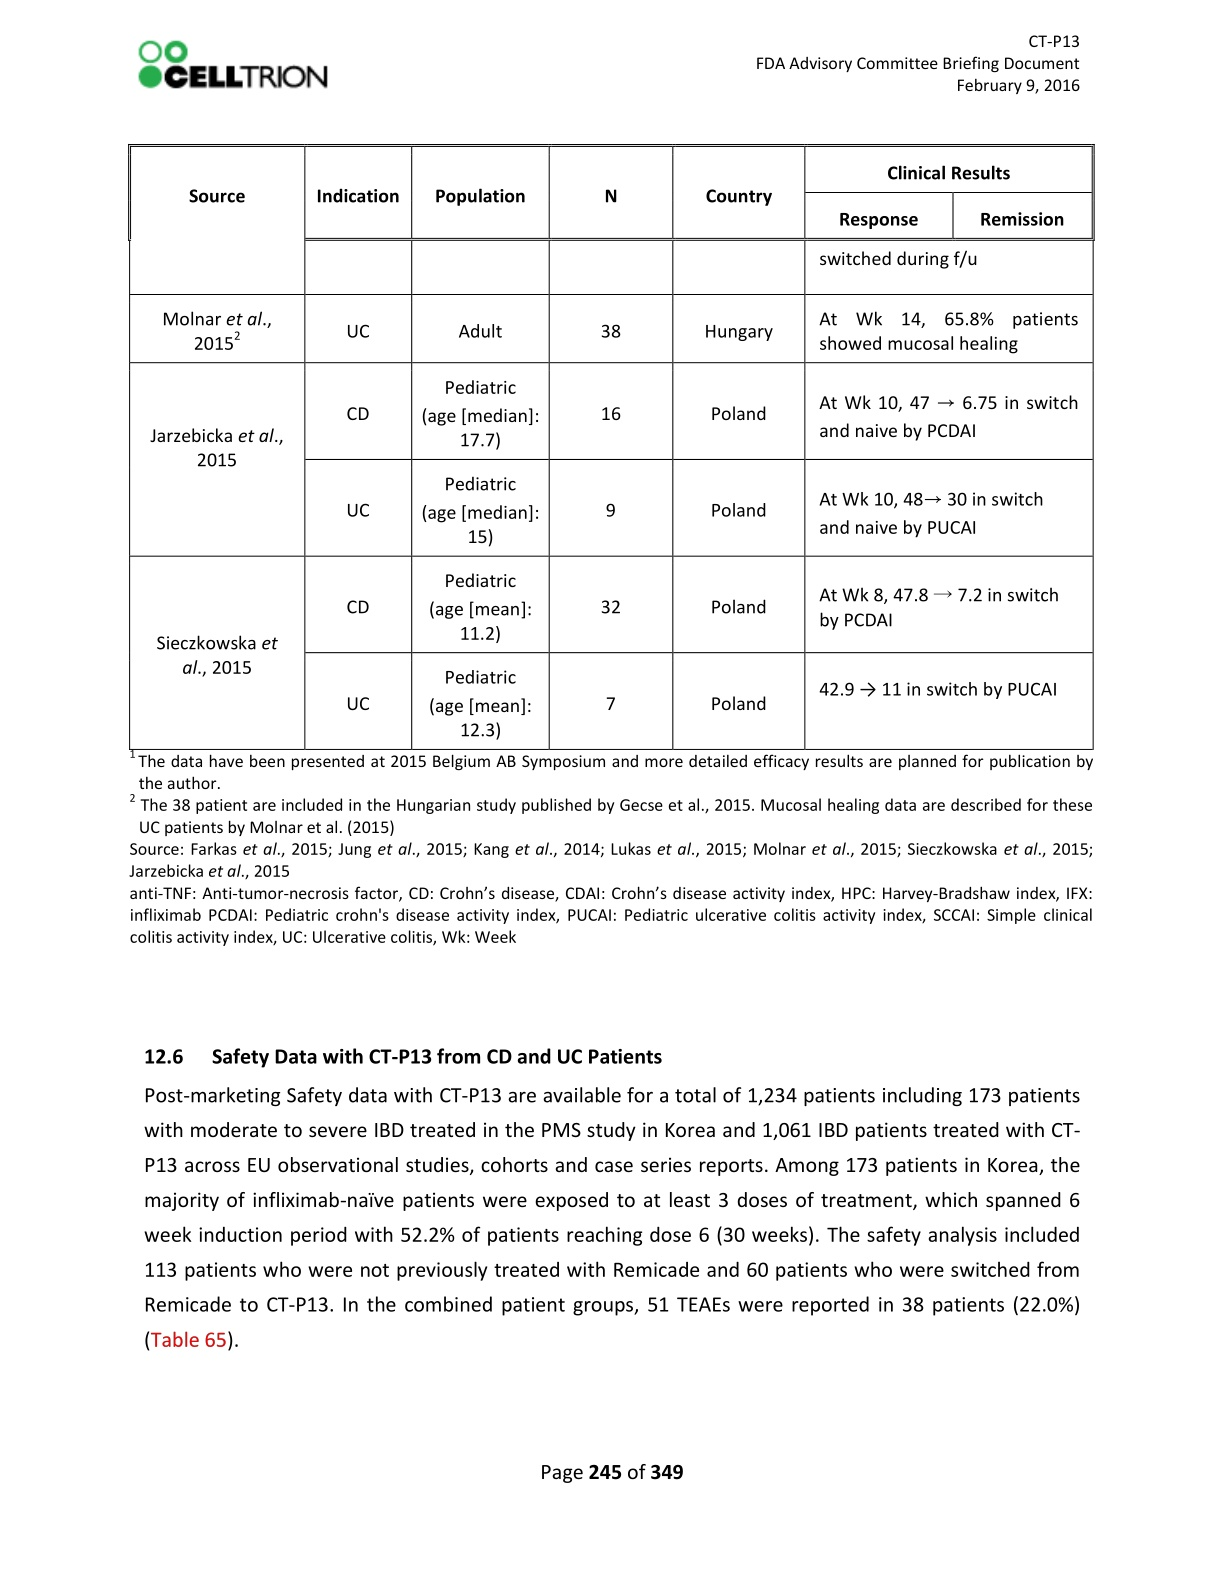merged_cells: (123, 143, 1097, 753)
